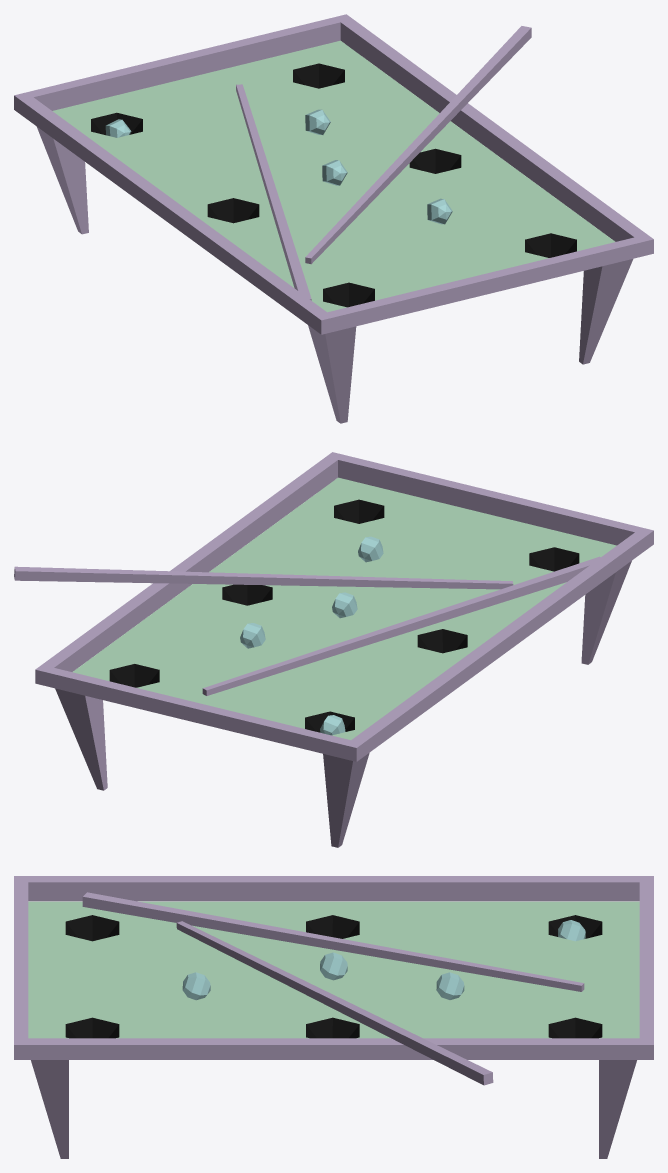
The model's file is PoolTable.fbx.
The picture shows the model from 3 angles, top to bottom: view 1: azimuth 30°, elevation 25°; view 2: azimuth 150°, elevation 25°; view 3: azimuth 270°, elevation 25°; orthographic projection. The views are drawn at different scales.
Parts seen in each view (by area): view 1: pCube3; view 2: pCube3; view 3: pCube3.
Part boxes in pixels (x1,y1,x2,y2): pCube3: (14,14,653,423); pCube3: (14,452,653,847); pCube3: (14,876,653,1158).
Bounding box in the file's own units: 10.46 × 3.47 × 12.78.
